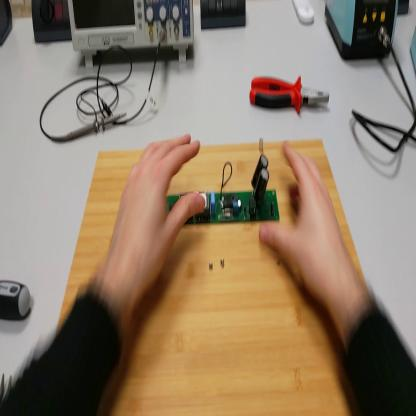hand: (107, 132, 207, 305), (260, 138, 348, 305)
high voltage board: (172, 153, 282, 225)
oscilloscope: (69, 2, 196, 70)
oscilloscope probe tip: (67, 112, 128, 146)
pliers: (251, 74, 331, 118), (2, 367, 12, 408)
screwdriver-: (2, 279, 31, 326)
socket: (32, 3, 73, 48), (1, 1, 15, 48), (398, 1, 411, 17)
welder base: (410, 26, 416, 73)
welder station: (325, 1, 400, 64)
working area: (58, 140, 365, 413)
